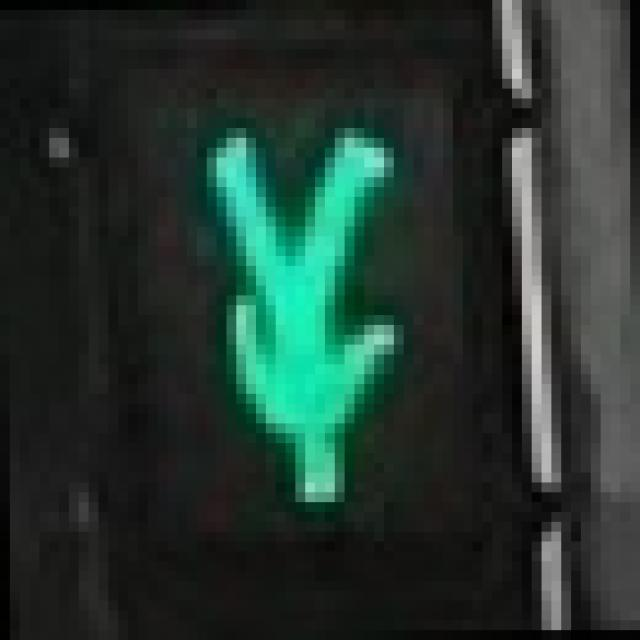geen-crossing: (177, 79, 433, 522)
